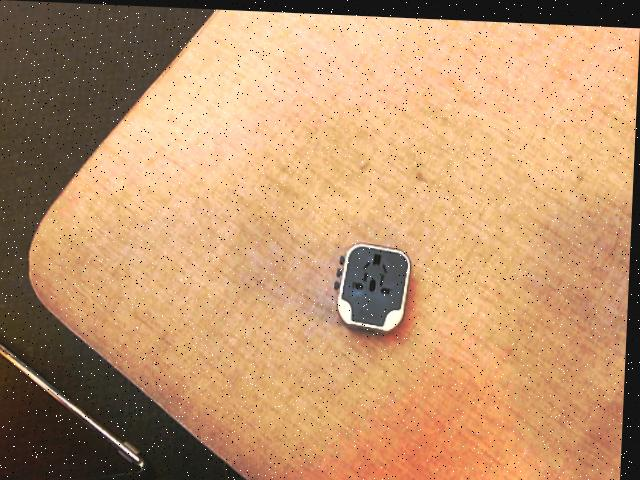adapter: (335, 238, 414, 331)
